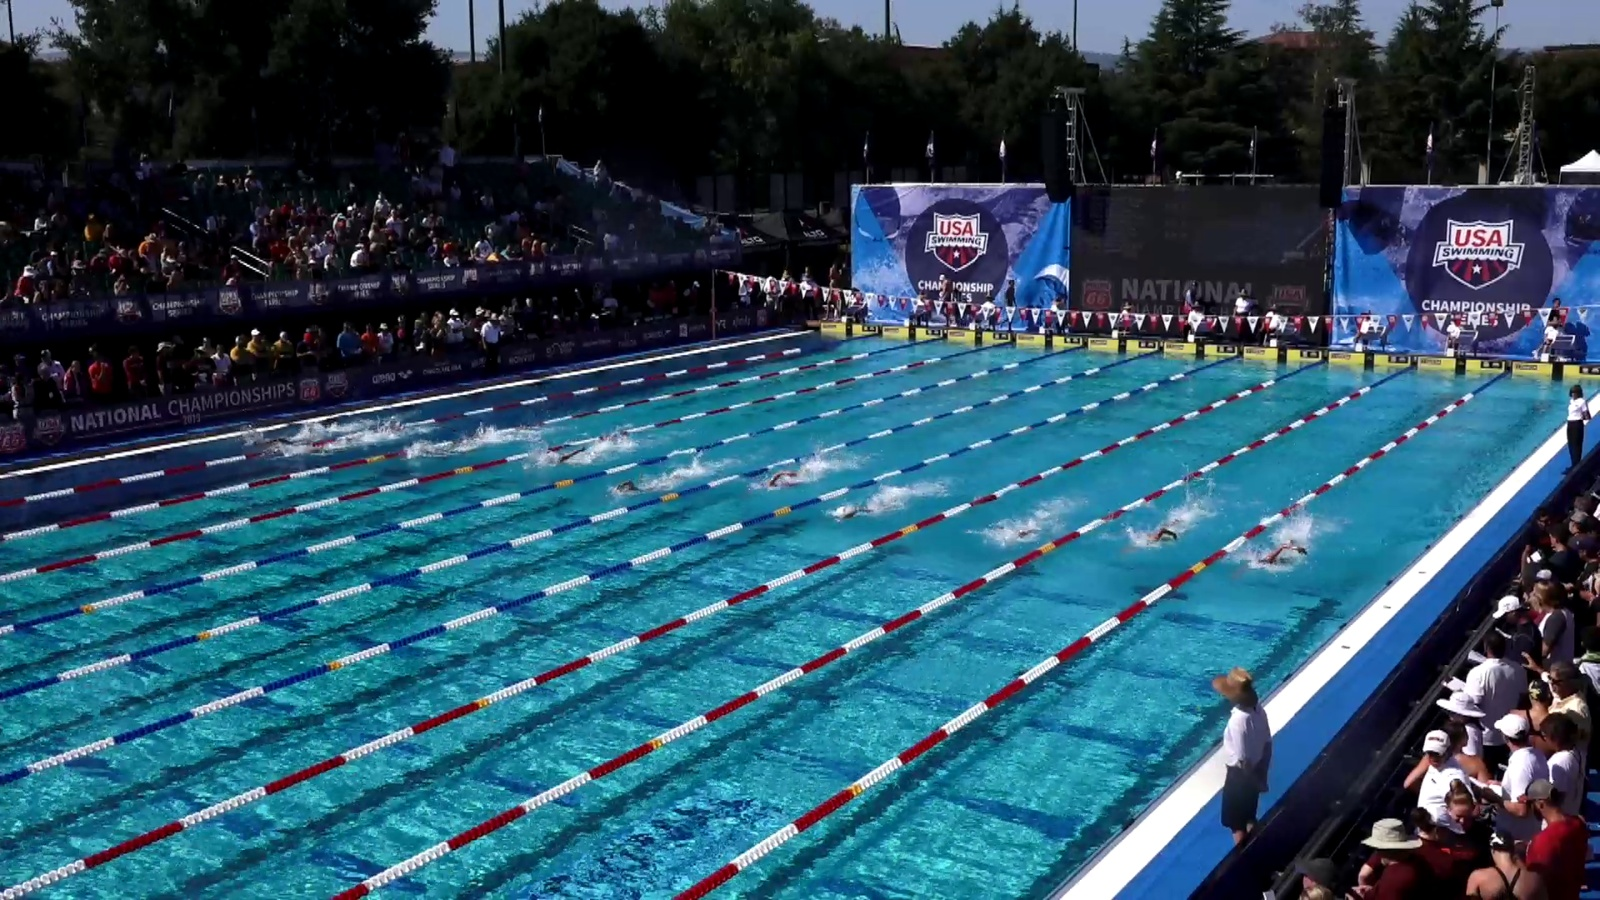swimmerw: (1248, 529, 1322, 570), (1124, 512, 1195, 555), (246, 429, 332, 453), (981, 516, 1046, 545), (825, 495, 888, 523), (535, 448, 608, 473), (419, 437, 495, 460), (313, 436, 377, 460), (751, 470, 816, 492), (610, 479, 684, 496)
